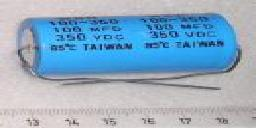Electrolytic-Capacitor: (8, 9, 243, 93)
